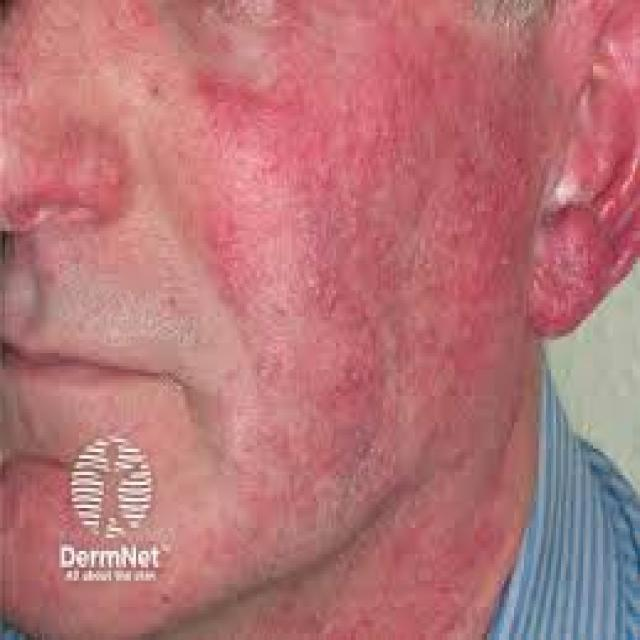Rosacea: (132, 26, 540, 402), (0, 108, 130, 218)
